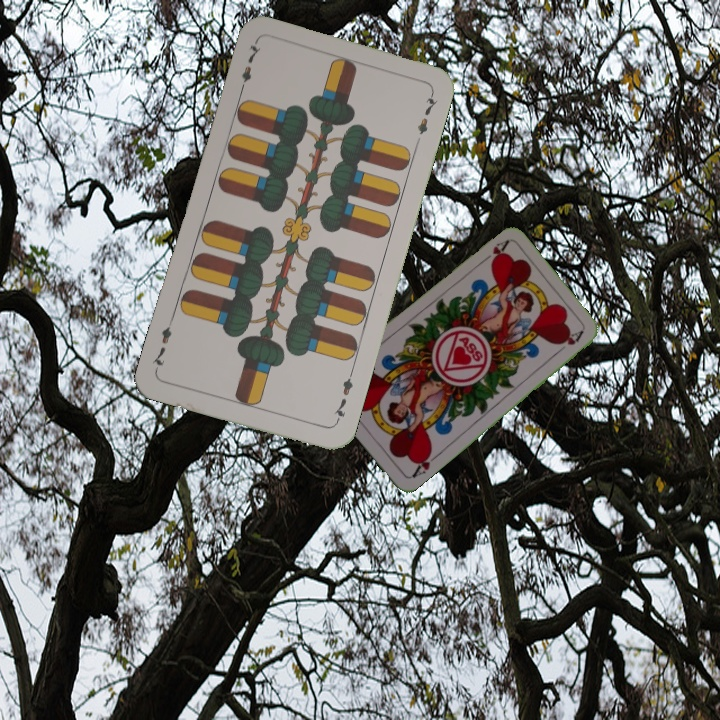E7: (235, 39, 264, 97), (330, 368, 356, 426)
HA: (408, 446, 441, 481), (476, 236, 511, 267)
